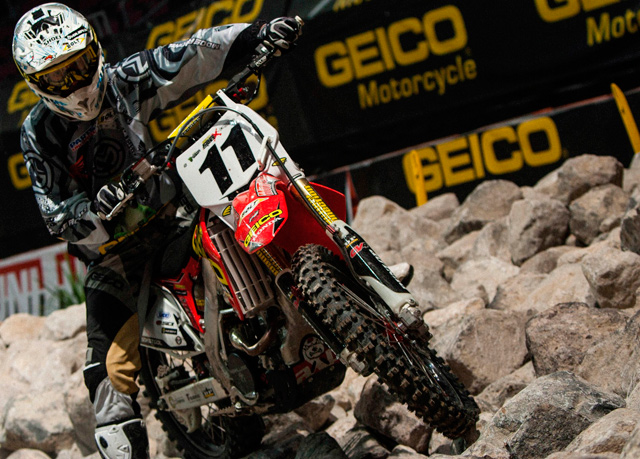geico: (317, 9, 479, 98), (405, 114, 560, 197)
